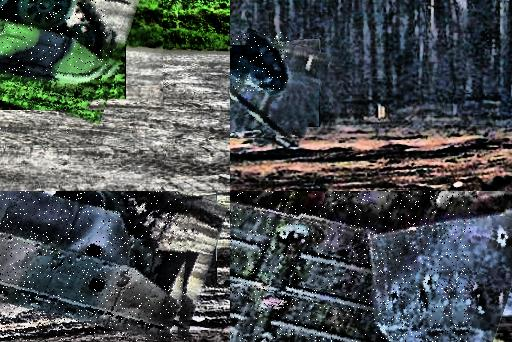tanks: (231, 192, 443, 342), (1, 192, 187, 342), (1, 1, 112, 82), (231, 83, 295, 139), (232, 33, 289, 92)
